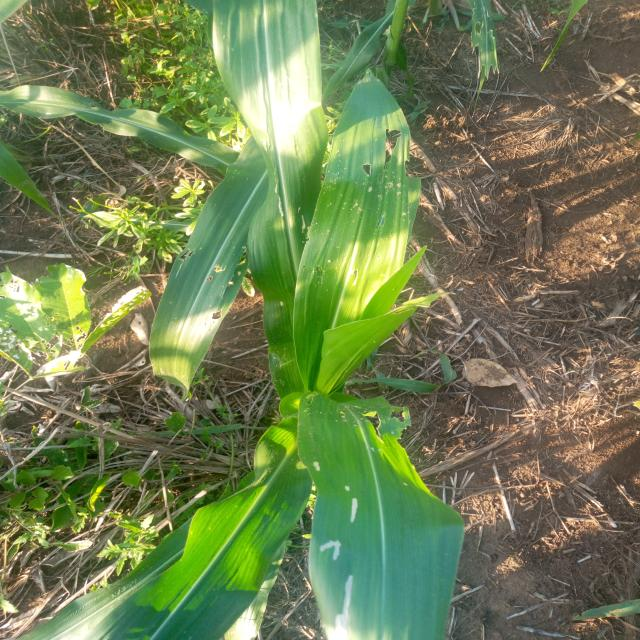fall-armyworm-larval-damage: (338, 114, 427, 192), (177, 252, 254, 326), (350, 406, 418, 448)
